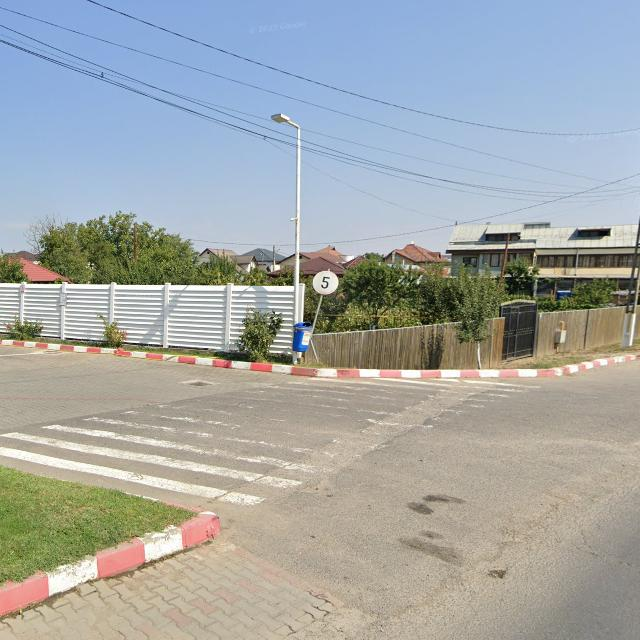forb_speed_over_5: (312, 270, 338, 294)
